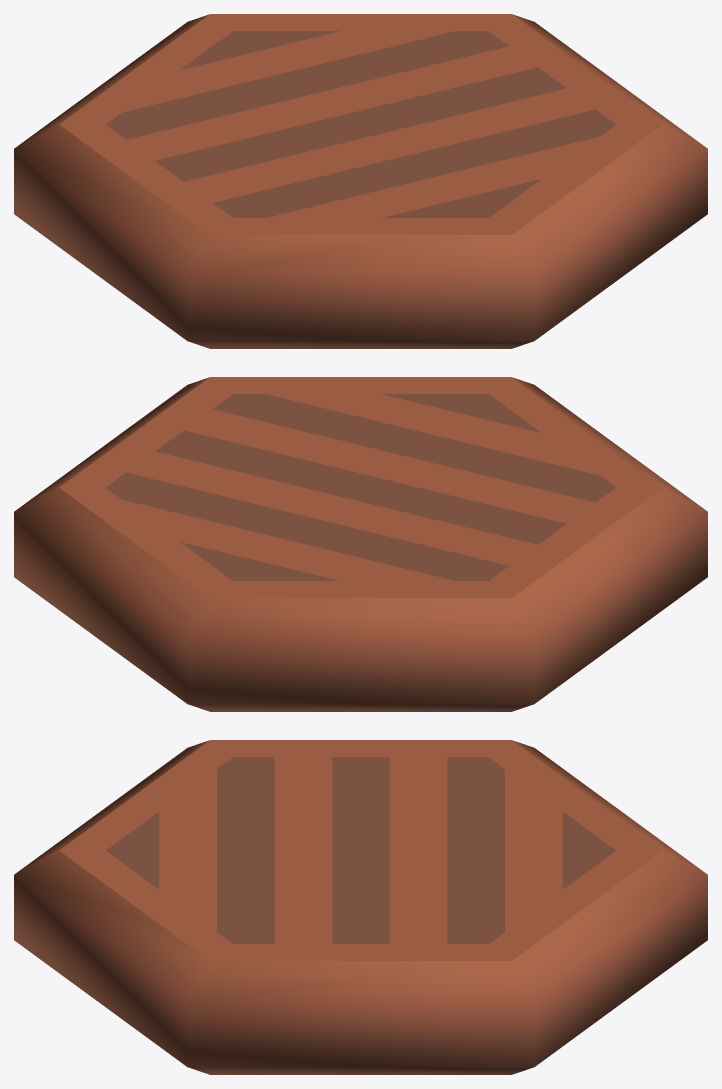
The model's file is kenney-food-meat-patty.glb.
The picture shows the model from 3 angles, top to bottom: view 1: azimuth 30°, elevation 25°; view 2: azimuth 150°, elevation 25°; view 3: azimuth 270°, elevation 25°; orthographic projection.
Parts seen in each view (by area): view 1: meat-patty; view 2: meat-patty; view 3: meat-patty.
Boxes of the visible parts, x1,y1,x2,y2 form: meat-patty: (14, 14, 707, 348); meat-patty: (14, 377, 707, 711); meat-patty: (14, 740, 707, 1074).
Size of the model in its own units: 0.2988 by 0.0624 by 0.345.
Materials: 1 (1 with a texture image).
